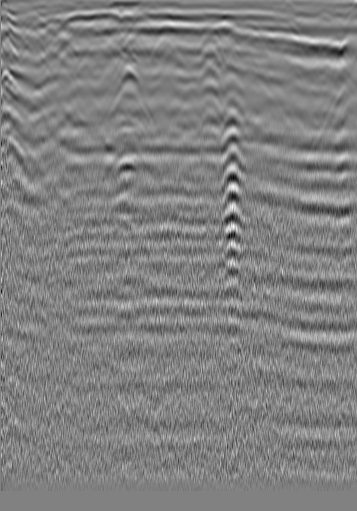가스: (104, 138, 153, 185)
상수: (25, 24, 45, 44)
오수: (299, 31, 319, 51)
우수: (153, 23, 173, 43)
